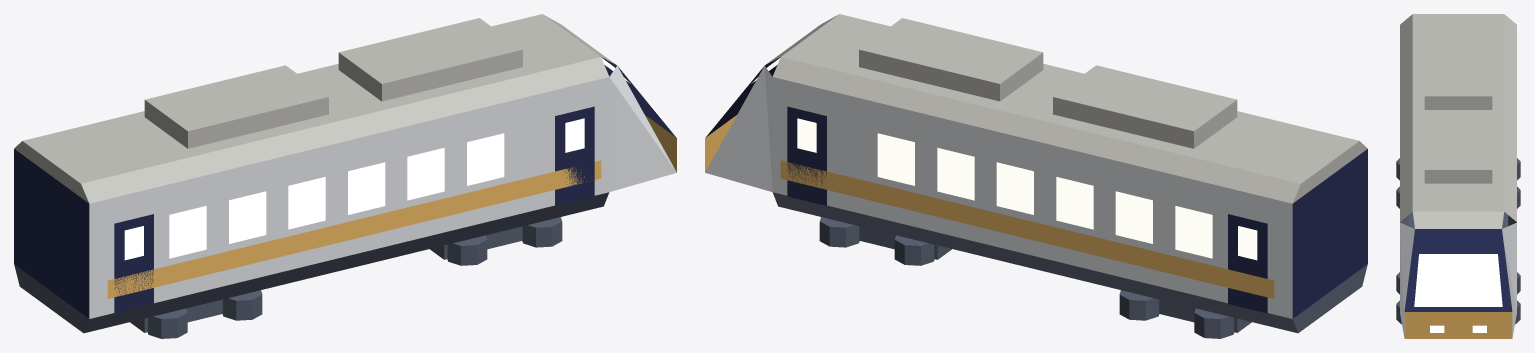
Rendered from mrt-wenhu.glb.
3 renders of one model, left to right at view 1: azimuth 30°, elevation 25°; view 2: azimuth 150°, elevation 25°; view 3: azimuth 270°, elevation 25°, orthographic. The views are drawn at different scales.
Parts seen in each view (by area): view 1: mrt-wenhu_root; view 2: mrt-wenhu_root; view 3: mrt-wenhu_root.
Part boxes in pixels (bbox=[...]): mrt-wenhu_root: bbox=[14, 14, 676, 338]; mrt-wenhu_root: bbox=[705, 14, 1367, 338]; mrt-wenhu_root: bbox=[1396, 14, 1520, 338].
Size of the model in its own units: 13.42 by 4.04 by 3.14.
Materials: 2 (2 with a texture image).
